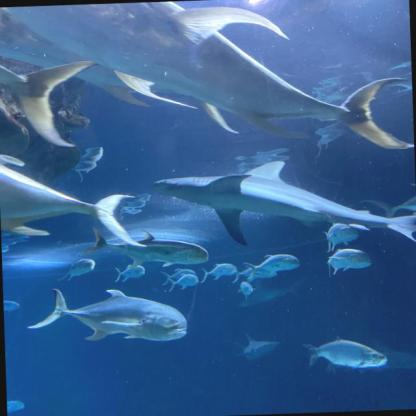fish: (0, 0, 415, 165), (0, 148, 148, 253), (0, 46, 102, 150), (26, 284, 188, 346), (79, 222, 208, 270), (302, 334, 388, 371), (360, 182, 416, 220), (241, 253, 299, 279), (326, 248, 371, 277), (323, 222, 358, 252), (56, 258, 96, 282), (231, 265, 277, 282), (200, 263, 237, 282), (167, 272, 198, 292), (114, 264, 144, 284), (160, 268, 196, 280), (6, 398, 26, 416), (238, 280, 255, 300), (3, 299, 20, 313)
shark: (152, 156, 416, 255), (237, 332, 282, 362)
